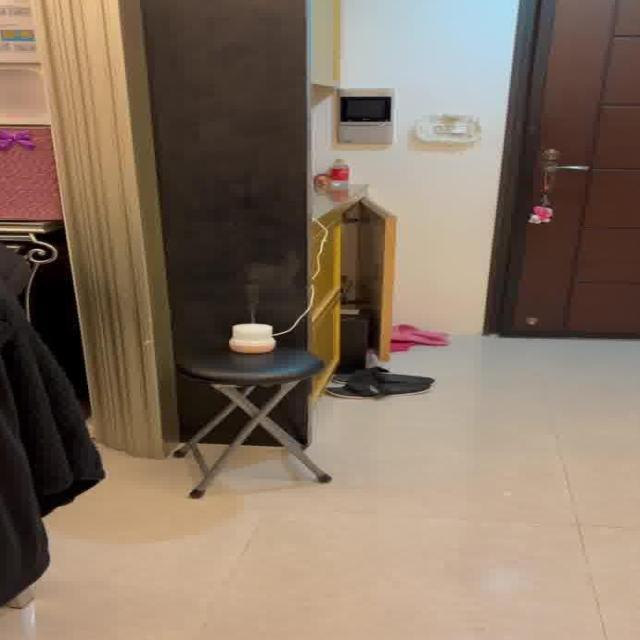fire: (235, 262, 294, 316)
